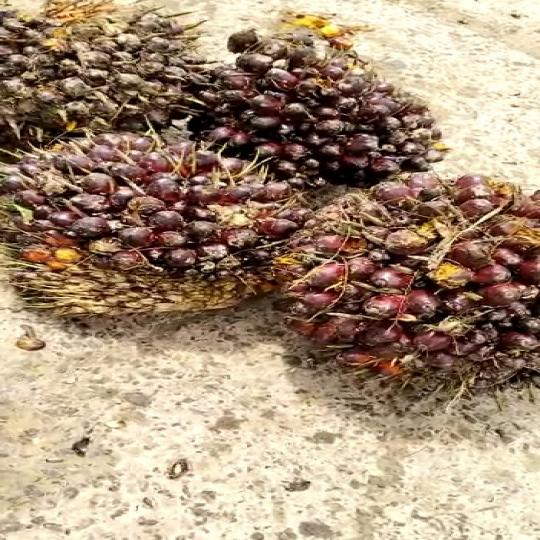kurang masak: (262, 177, 540, 392), (0, 140, 307, 326), (195, 27, 467, 190), (0, 0, 213, 148)
